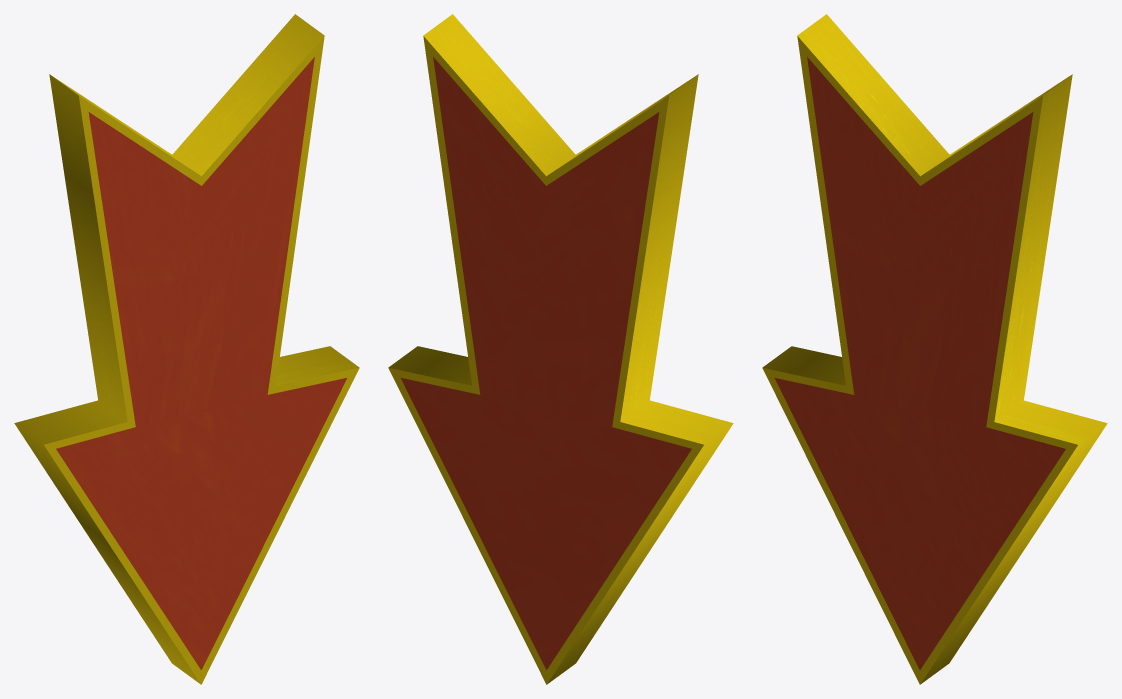
Rendered from Arrow.fbx.
3 renders of one model, left to right at view 1: azimuth 30°, elevation 25°; view 2: azimuth 150°, elevation 25°; view 3: azimuth 330°, elevation 25°, orthographic.
Parts seen in each view (by area): view 1: object_0; view 2: object_0; view 3: object_0.
Boxes of the visible parts, x1,y1,x2,y2 form: object_0: [14, 14, 359, 684]; object_0: [388, 14, 733, 684]; object_0: [762, 14, 1107, 684].
Size of the model in its own units: 6.19 by 11.59 by 1.
1 material, 1 textured.
